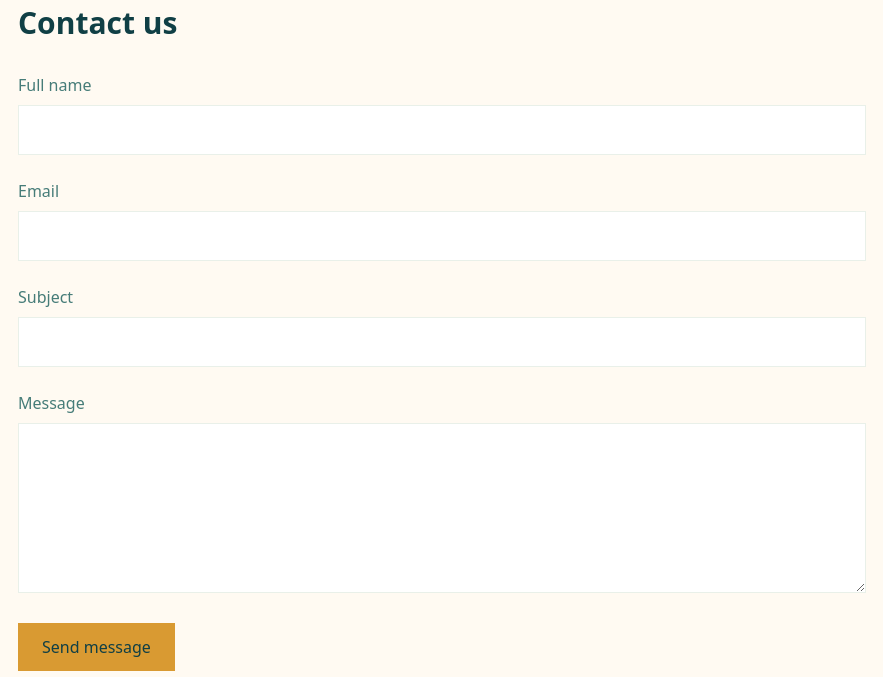
Scenario: ContactPage - form validation › shows validation errors when submitting empty form
This screenshot has width=883, height=677.
Click the button "Send message".
click(96, 647)  # box [18,623,175,671]
(page scrolled)
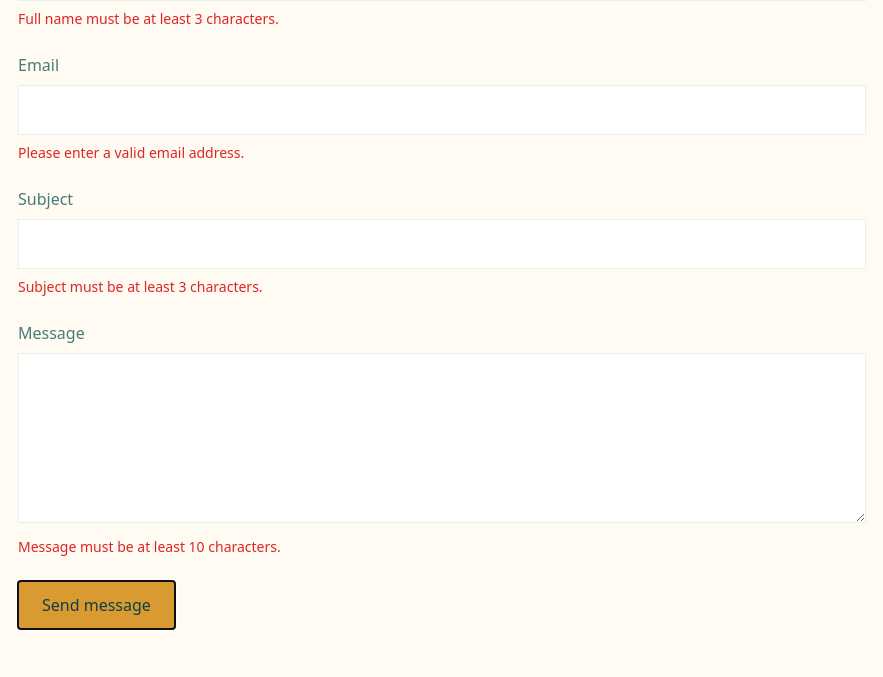
Expected: the text "Full name must be at least 3 characters." is shown, [18,9,279,28]
Expected: the text "Please enter a valid email address." is shown, [18,143,244,162]
Expected: the text "Subject must be at least 3 characters." is shown, [18,277,263,296]
